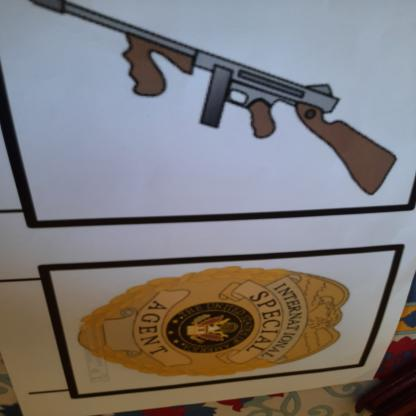Bootlegger: (19, 1, 404, 207)
G-man: (57, 269, 366, 385)
